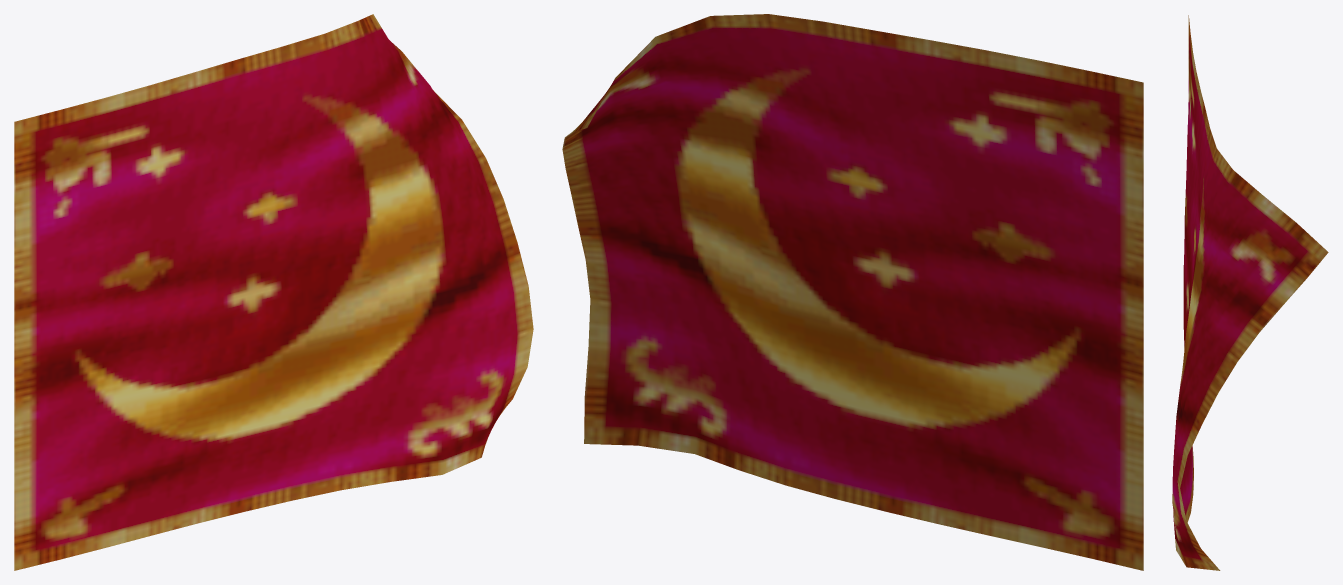
The model's file is Flag.glb.
3 views of the same model, side by side, from view 1: azimuth 30°, elevation 25°; view 2: azimuth 150°, elevation 25°; view 3: azimuth 270°, elevation 25° (orthographic). The views are drawn at different scales.
Visible parts, largest first — view 1: Flag; view 2: Flag; view 3: Flag.
Boxes of the visible parts, x1=… form: Flag: x1=14, y1=14, x2=533, y2=570; Flag: x1=562, y1=14, x2=1143, y2=570; Flag: x1=1172, y1=15, x2=1328, y2=570.
Bounding box in the file's own units: 2.39 × 2 × 0.7706.
1 material, 1 textured.
